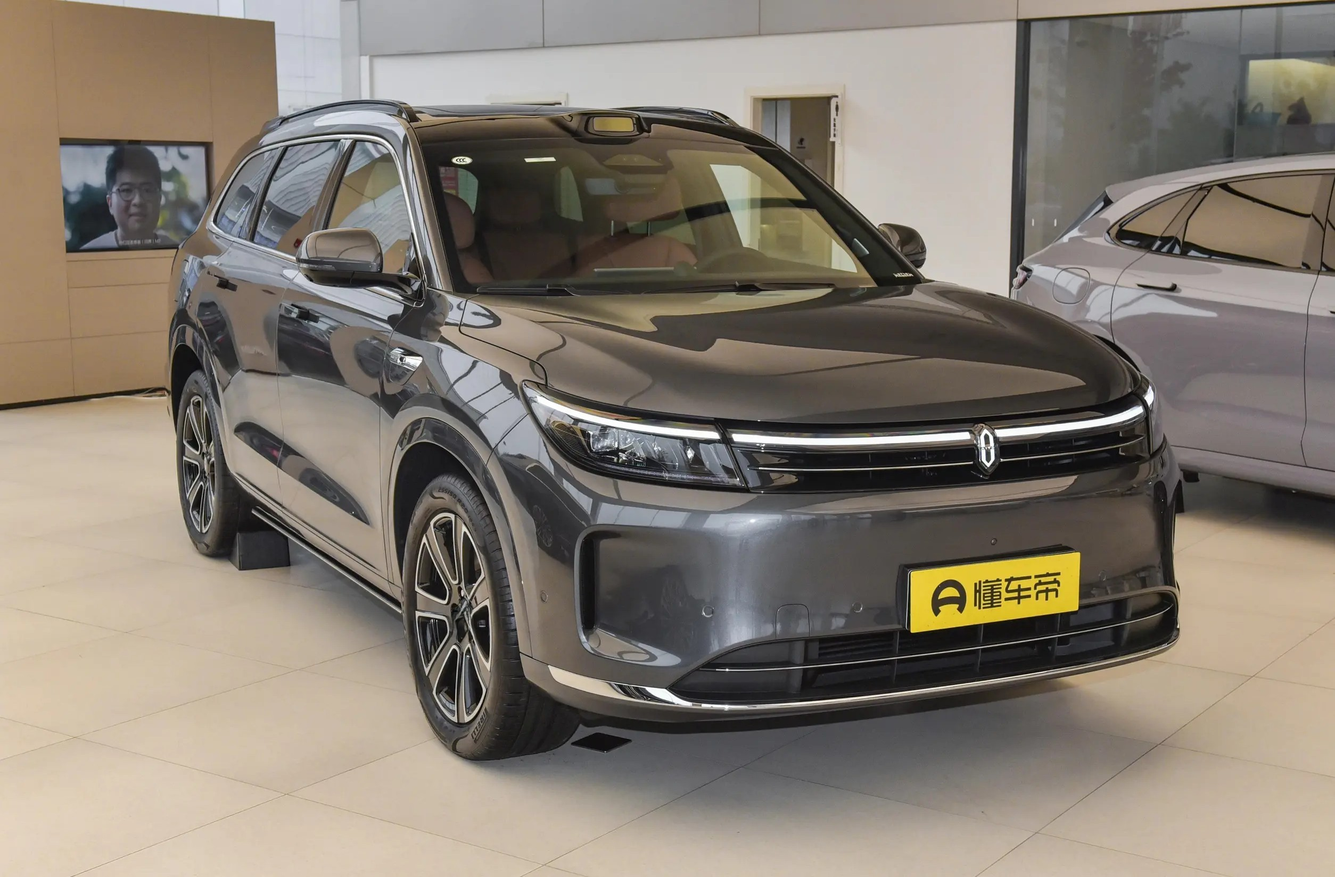AITO: (980, 430, 994, 467)
